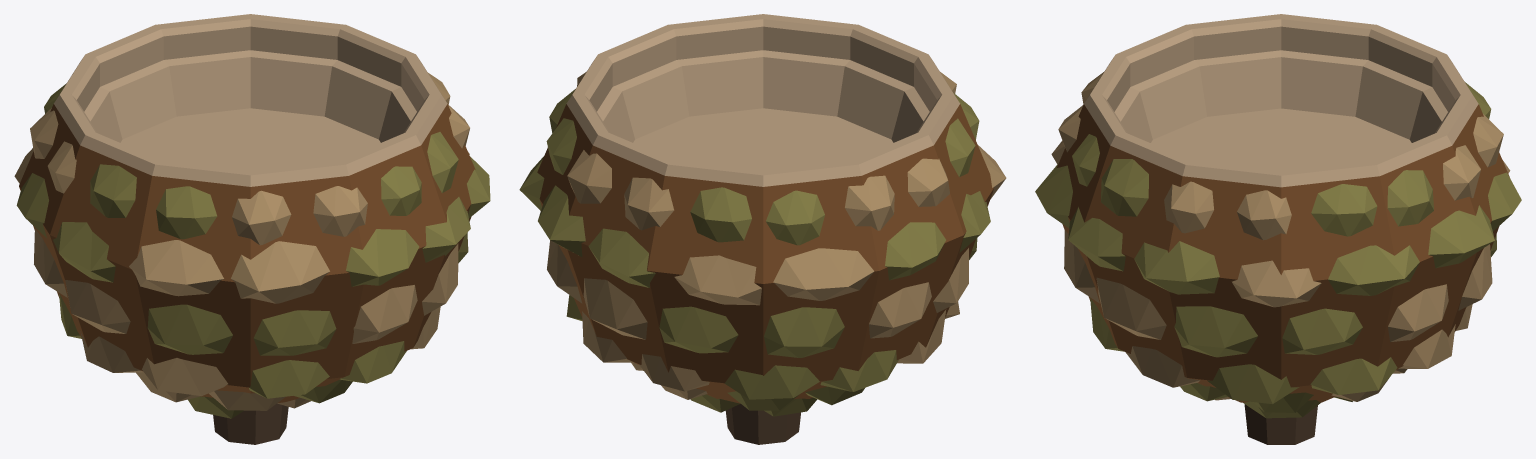
File: acorn-cup-0ed13c.glb
3 renders of one model, left to right at view 1: azimuth 30°, elevation 25°; view 2: azimuth 150°, elevation 25°; view 3: azimuth 270°, elevation 25°, orthographic.
Visible parts, largest first — view 1: acorn-cup-mesh; view 2: acorn-cup-mesh; view 3: acorn-cup-mesh.
Part boxes in pixels (box(x1,y1,x2,y2)): acorn-cup-mesh: box(14, 14, 490, 444); acorn-cup-mesh: box(519, 14, 1006, 444); acorn-cup-mesh: box(1035, 14, 1521, 444).
Size of the model in its own units: 2.38 by 1.85 by 2.43.
